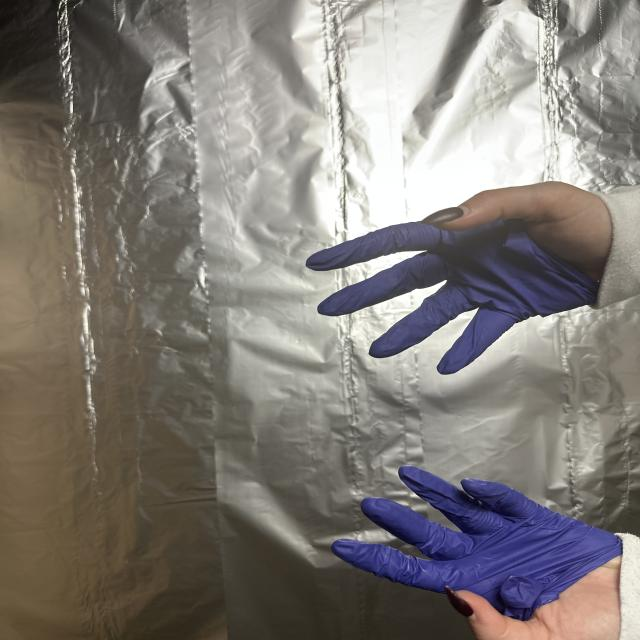glove_partial: (304, 177, 610, 372), (331, 459, 626, 640)
